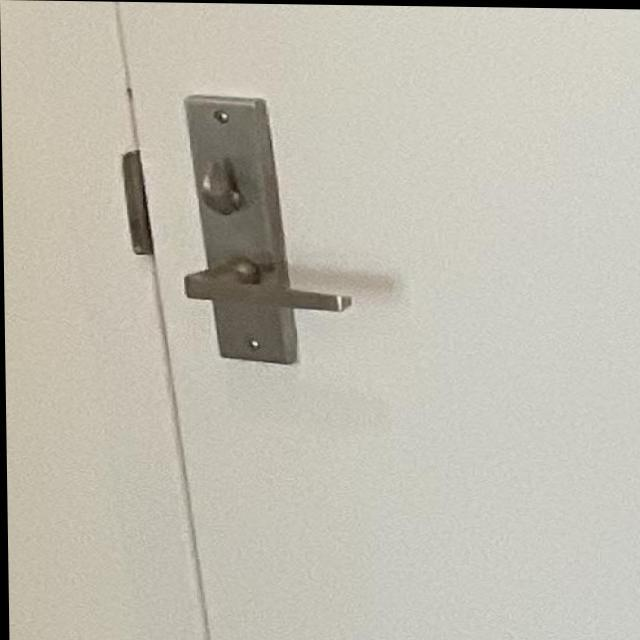door_handle: (163, 250, 369, 334)
